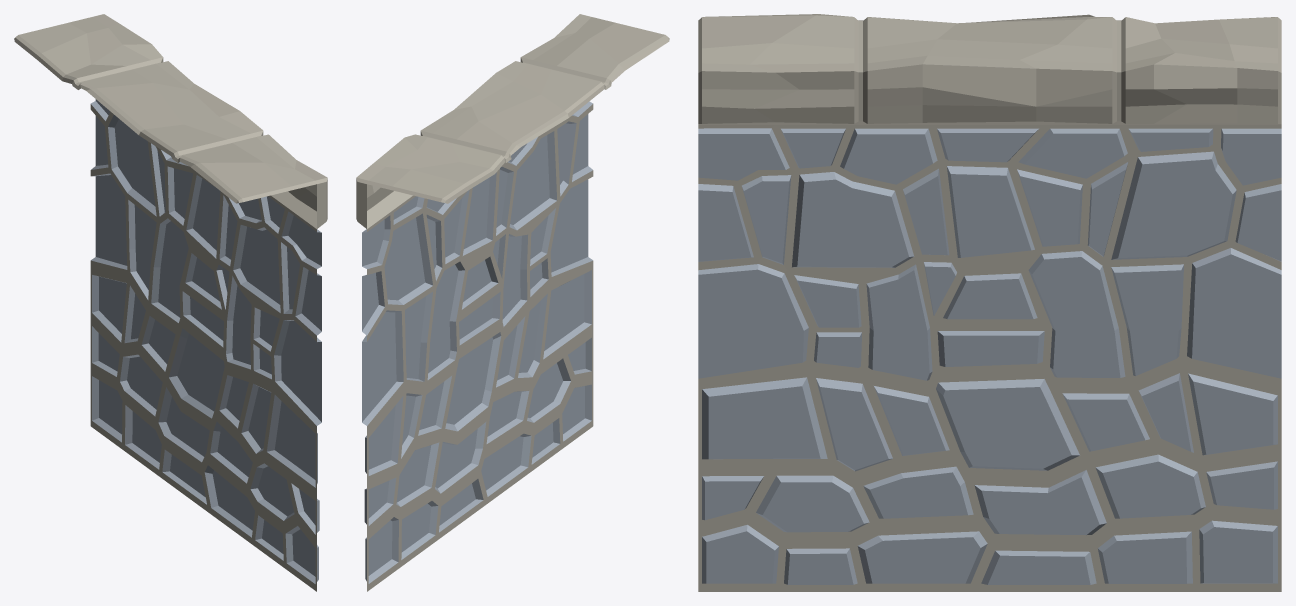
Rendered from SM_SkyIslands_StraightLong.fbx.
3 renders of one model, left to right at view 1: azimuth 30°, elevation 25°; view 2: azimuth 150°, elevation 25°; view 3: azimuth 270°, elevation 25°, orthographic. The views are drawn at different scales.
Parts seen in each view (by area): view 1: SM_SkyIslands_Straight_Long.005; view 2: SM_SkyIslands_Straight_Long.005; view 3: SM_SkyIslands_Straight_Long.005.
Part boxes in pixels (left/top/right/bottom): SM_SkyIslands_Straight_Long.005: left=14, top=14, right=327, bottom=591; SM_SkyIslands_Straight_Long.005: left=356, top=14, right=669, bottom=591; SM_SkyIslands_Straight_Long.005: left=698, top=14, right=1281, bottom=591.
Bounding box in the file's own units: 501 × 2024 × 2000.
